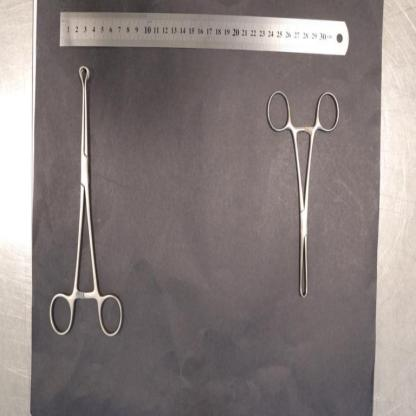8 Babcock Tissue Forceps: (48, 63, 123, 338)
Allis Tissue Forceps: (268, 87, 341, 299)
